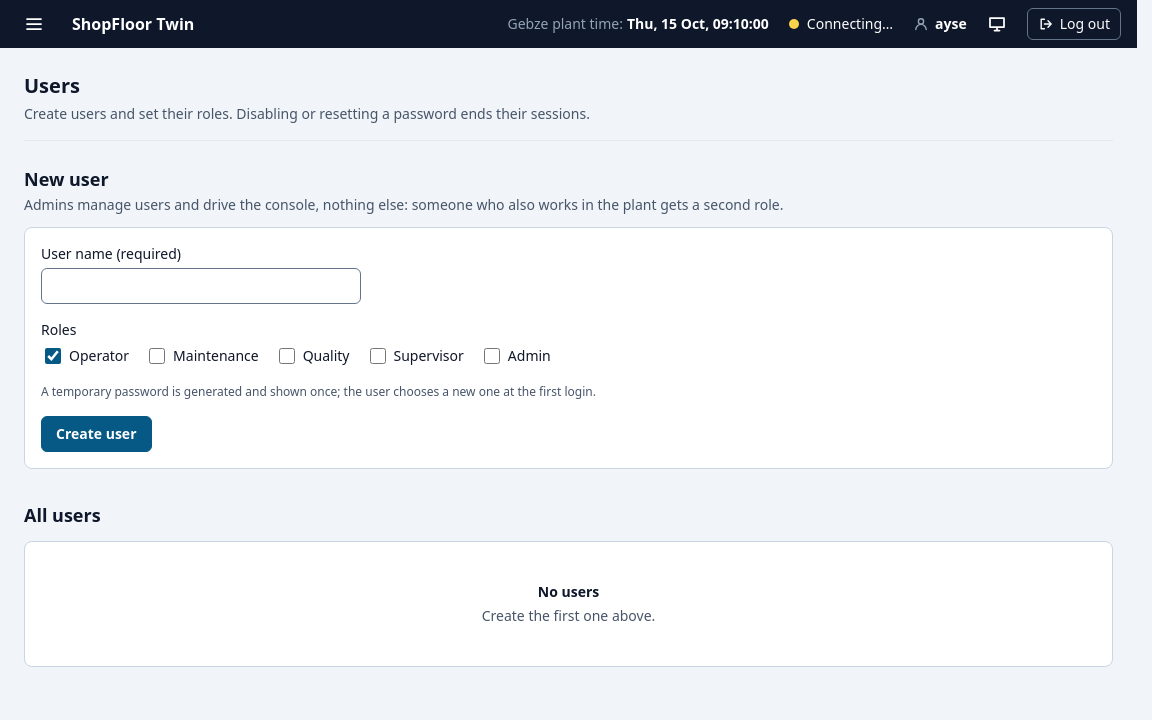
Test case: roles in the app (#170) › lets an admin create a user with a generated temporary password, shown once
Type "can" into the field with test id "new-username".
click(201, 286); type("can")  # box [41,268,361,304]
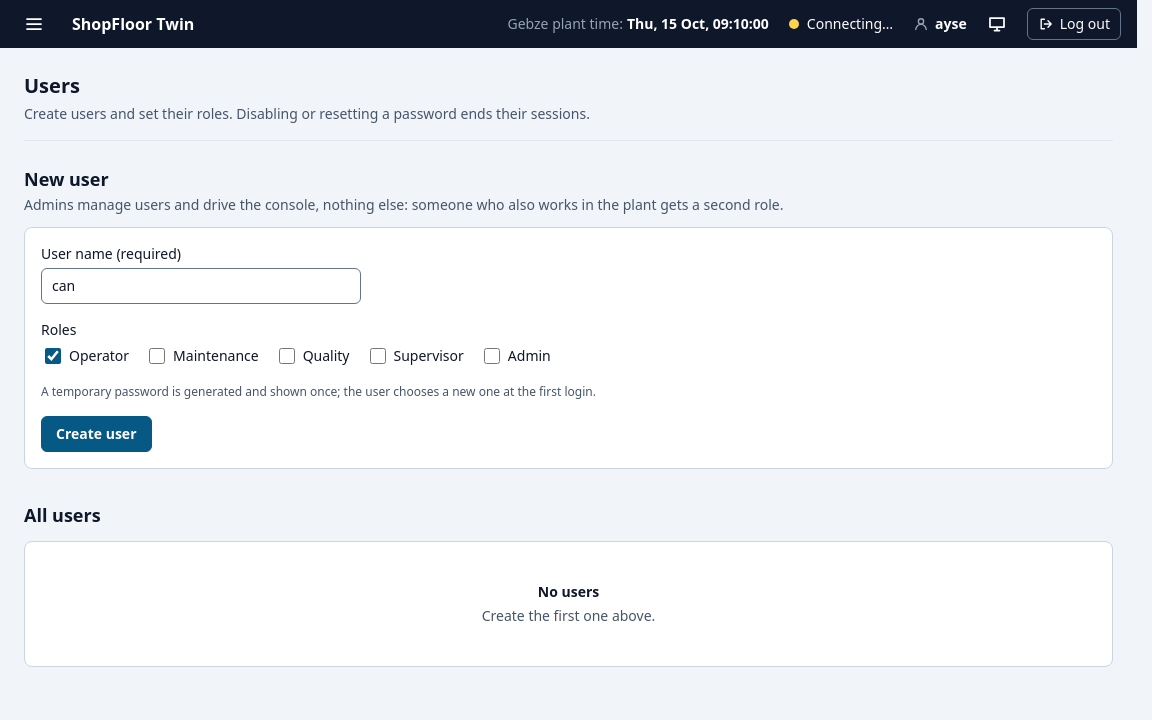
Click the checkbox with test id "new-role-supervisor".
click(378, 356)  # box [370,348,386,364]
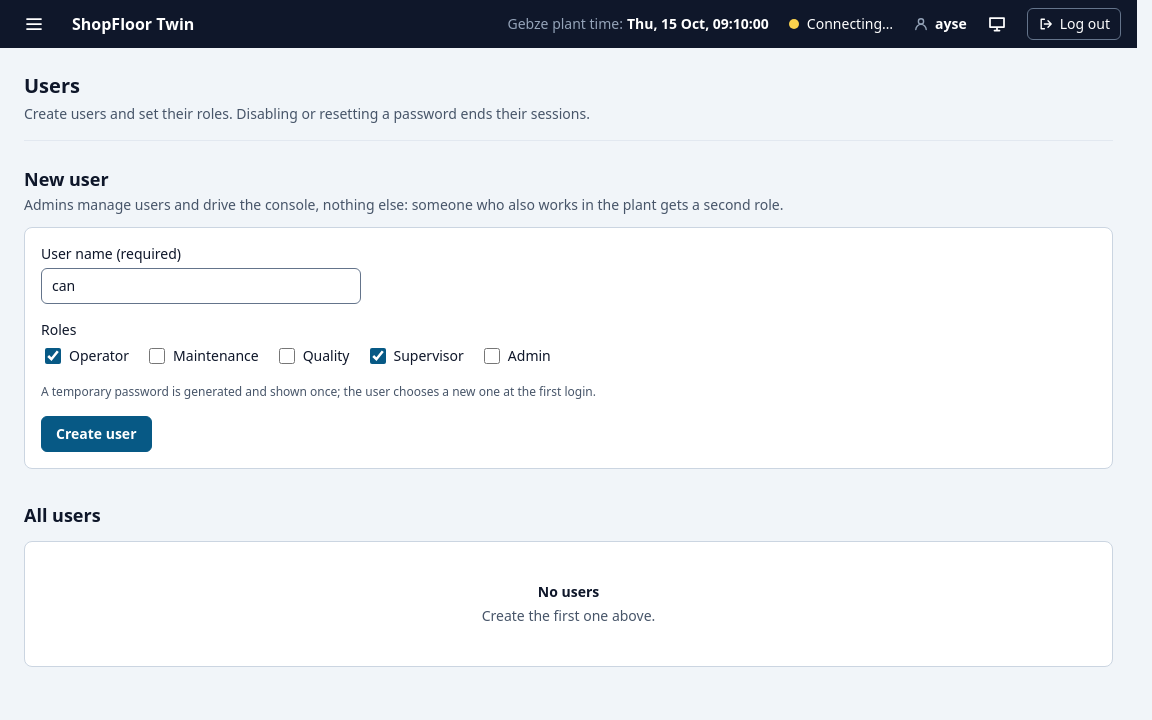
Click the button with test id "create-user".
click(96, 434)  # box [41,416,152,452]
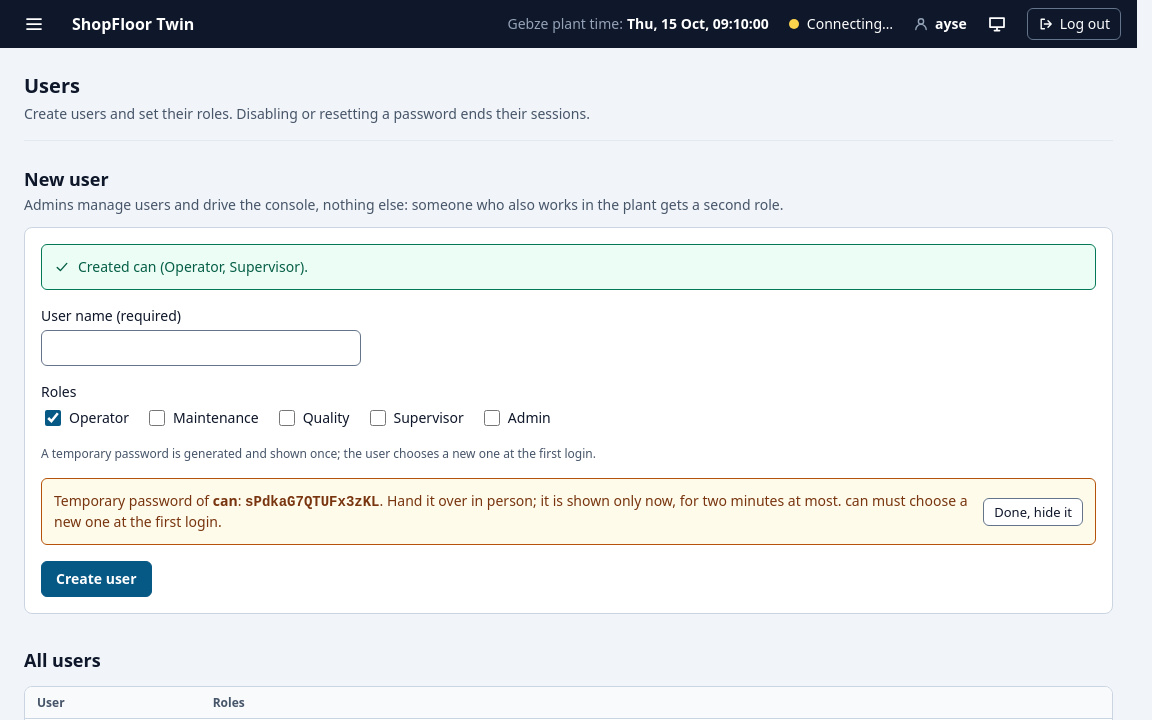
expect the text "can" is shown: met, box [213,491,238,510]
Click the button with test id "hide-temporary-password".
click(1033, 512)  # box [983,498,1083,526]
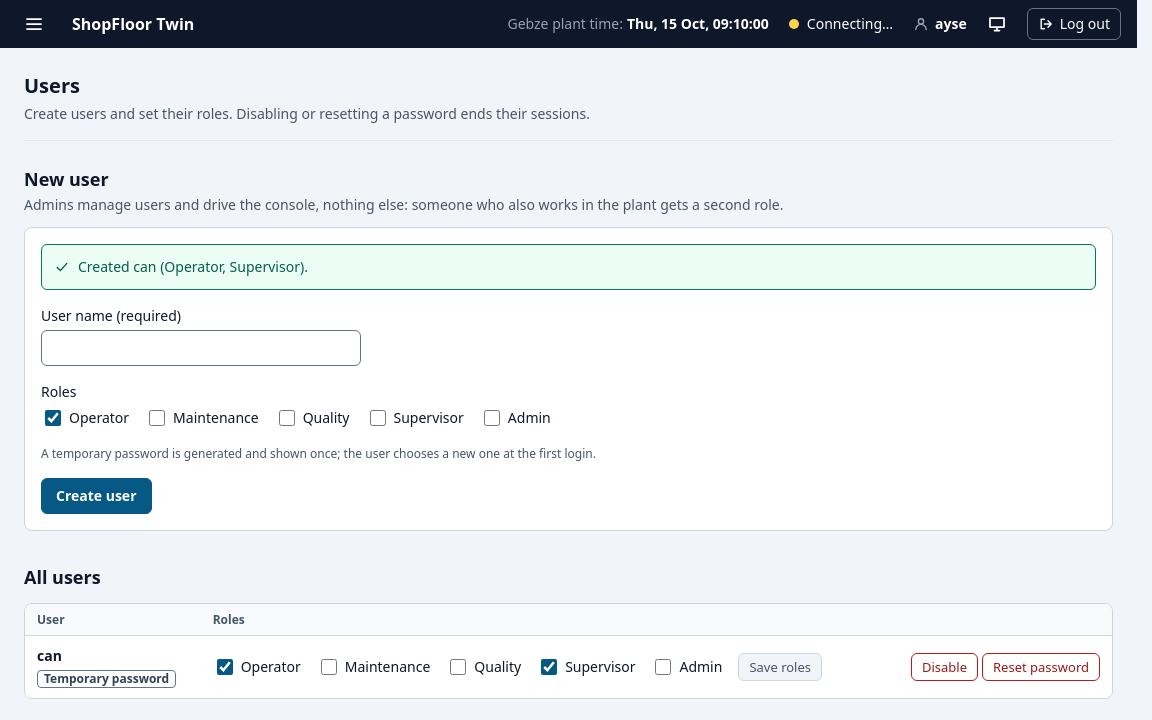
expect the message with test id "temporary-password" is gone: met
